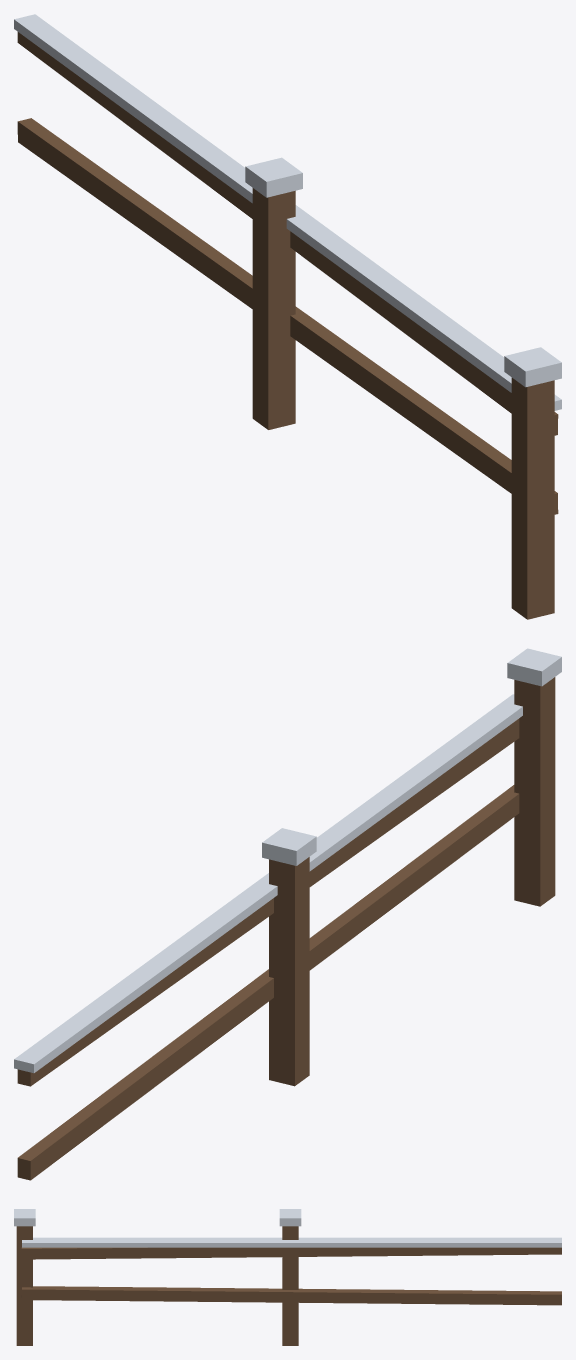
The model's file is fence.glb.
3 views of the same model, one above another, from view 1: azimuth 30°, elevation 25°; view 2: azimuth 150°, elevation 25°; view 3: azimuth 270°, elevation 25° (orthographic). The views are drawn at different scales.
Parts seen in each view (by area): view 1: fence; view 2: fence; view 3: fence.
Boxes of the visible parts, x1,y1,x2,y2 form: fence: (14, 14, 561, 619); fence: (14, 648, 561, 1180); fence: (14, 1209, 561, 1345).
Size of the model in its own units: 0.29 by 1.58 by 6.09.
